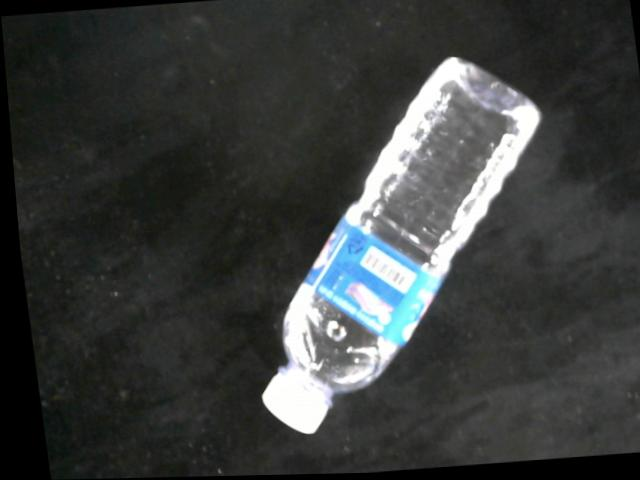bottle: (254, 55, 542, 437)
